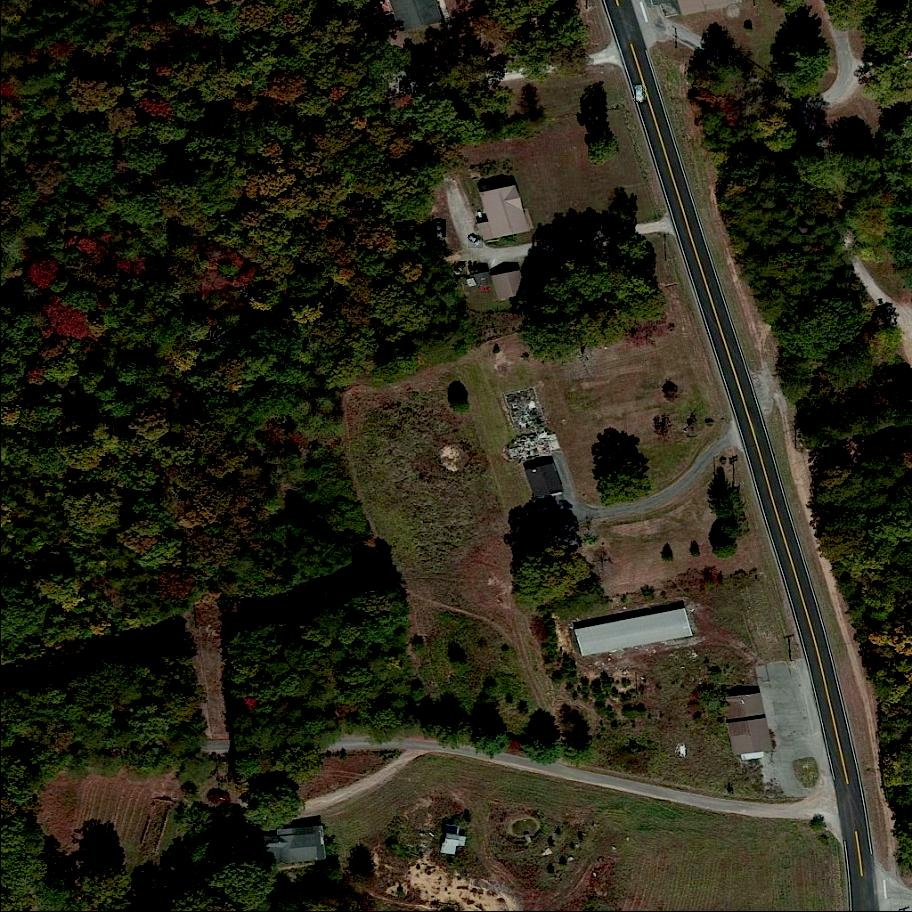small-vehicle: (433, 218, 445, 238), (454, 262, 468, 278), (468, 235, 484, 249), (636, 85, 644, 101)
